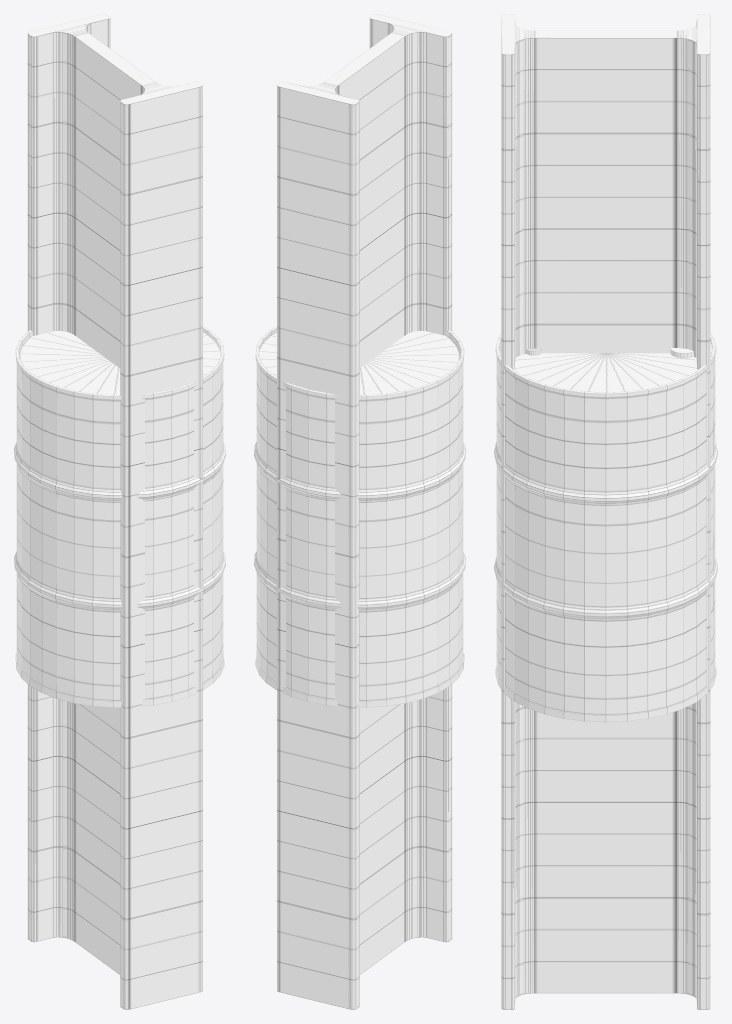
File: oil-metals.glb
The picture shows the model from 3 angles, left to right: view 1: azimuth 30°, elevation 25°; view 2: azimuth 150°, elevation 25°; view 3: azimuth 270°, elevation 25°; orthographic projection. The views are drawn at different scales.
Visible parts, largest first — view 1: metal, Barrel; view 2: metal, Barrel; view 3: metal, Barrel.
Boxes of the visible parts, x1,y1,x2,y2 form: metal: (27,14,202,1009); Barrel: (14,326,225,707); metal: (277,14,452,1009); Barrel: (254,326,465,707); metal: (501,14,710,1009); Barrel: (494,333,717,722).
Bounding box in the file's own units: 2.05 × 9.65 × 2.05.
1 material, 1 textured.
